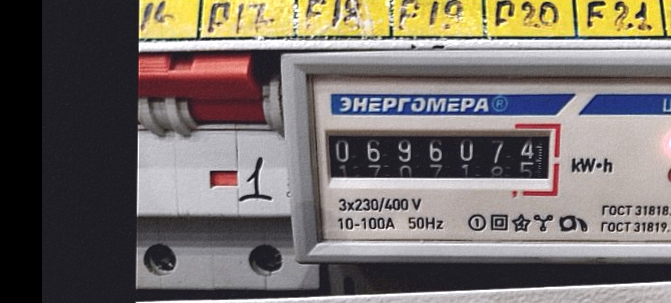0: (332, 137, 351, 163), (459, 136, 475, 162)
4: (520, 136, 536, 160)
5: (520, 160, 535, 178)
6: (365, 136, 384, 163), (427, 137, 444, 162)
7: (488, 137, 506, 163)
9: (395, 137, 414, 162)
screen: (314, 115, 567, 199)
